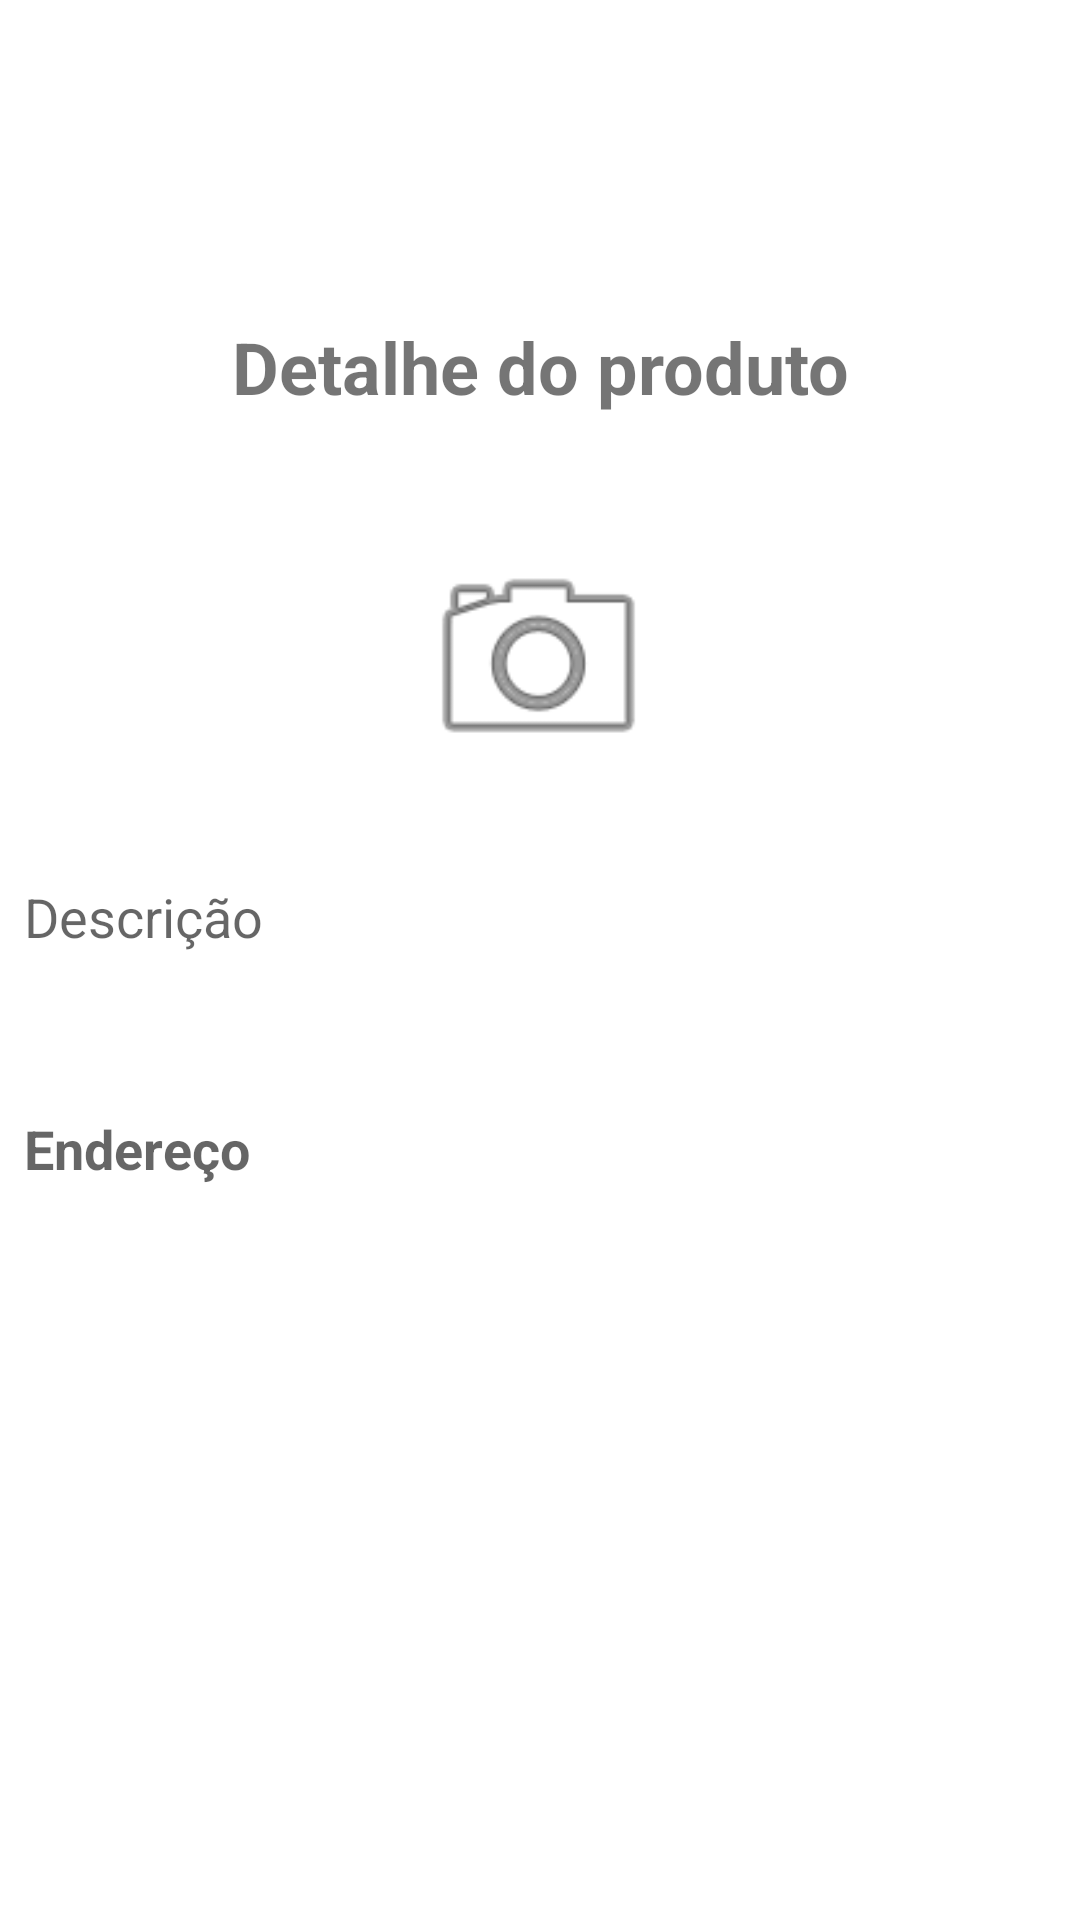

Named icons in this screenshot (1080*1920) and their centers, point (x, y):
camera: point (538, 655)
